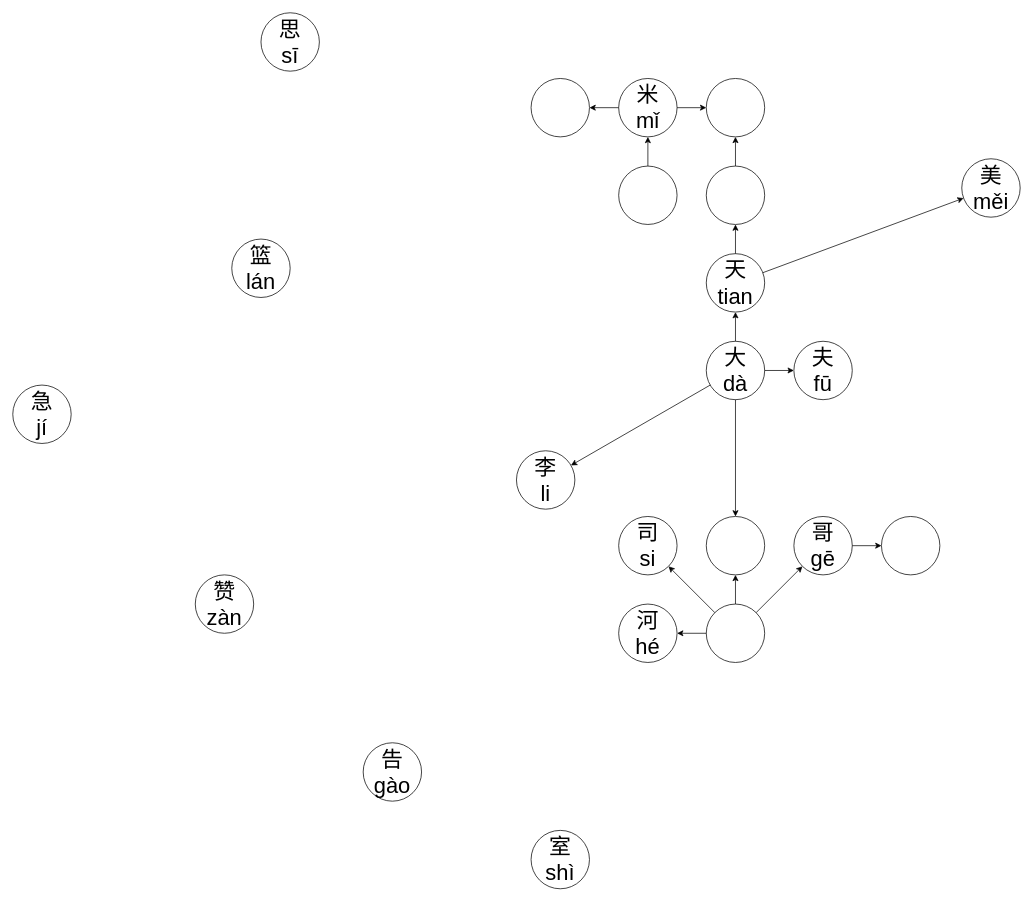
Some shapes in this 1033 by 902 pixel diagram are drawn without their labels. The centre of each missing label's shape, as x and y in pixels:
可 kě: the point at 735,632
奇 qí: the point at 735,545
末 mò: the point at 735,194
术 shù: the point at 647,194
来 lái: the point at 735,107
歌 gē: the point at 910,545
迷 mí: the point at 559,107
